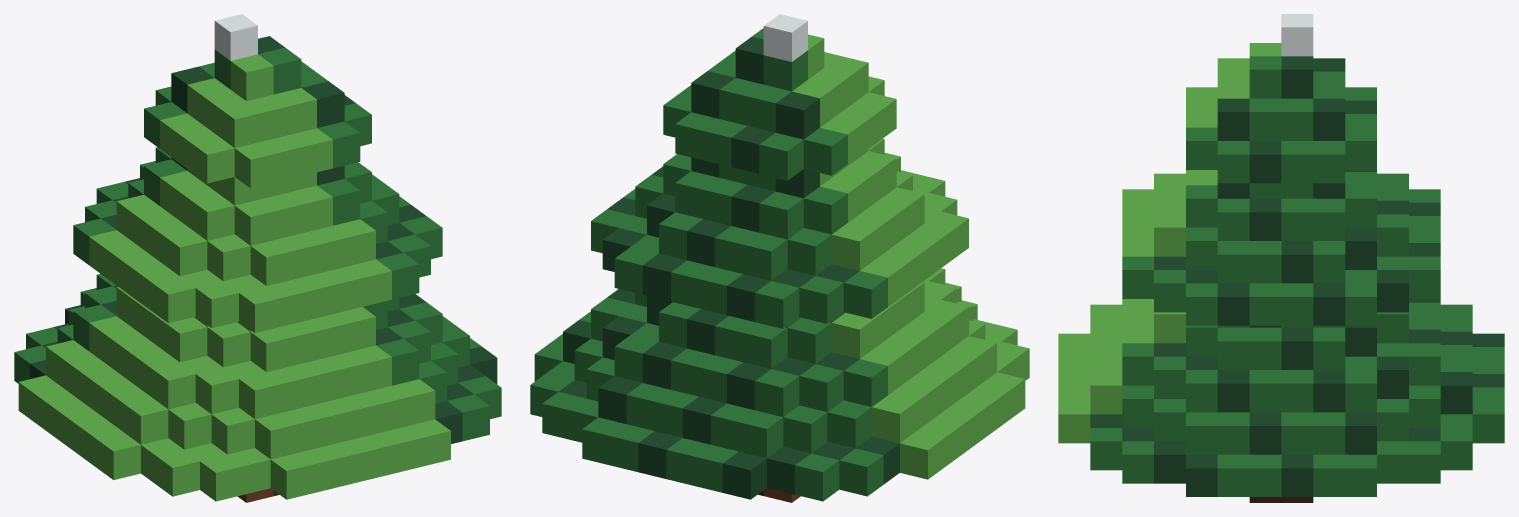
Rendered from pine.glb.
3 views of the same model, side by side, from view 1: azimuth 30°, elevation 25°; view 2: azimuth 150°, elevation 25°; view 3: azimuth 270°, elevation 25° (orthographic). The views are drawn at different scales.
Visible parts, largest first — view 1: pine; view 2: pine; view 3: pine.
Part boxes in pixels (box(x1,y1,x2,y2)): pine: box(14, 14, 501, 502); pine: box(530, 14, 1029, 502); pine: box(1058, 14, 1504, 502).
Size of the model in its own units: 0.875 by 1 by 0.875.
